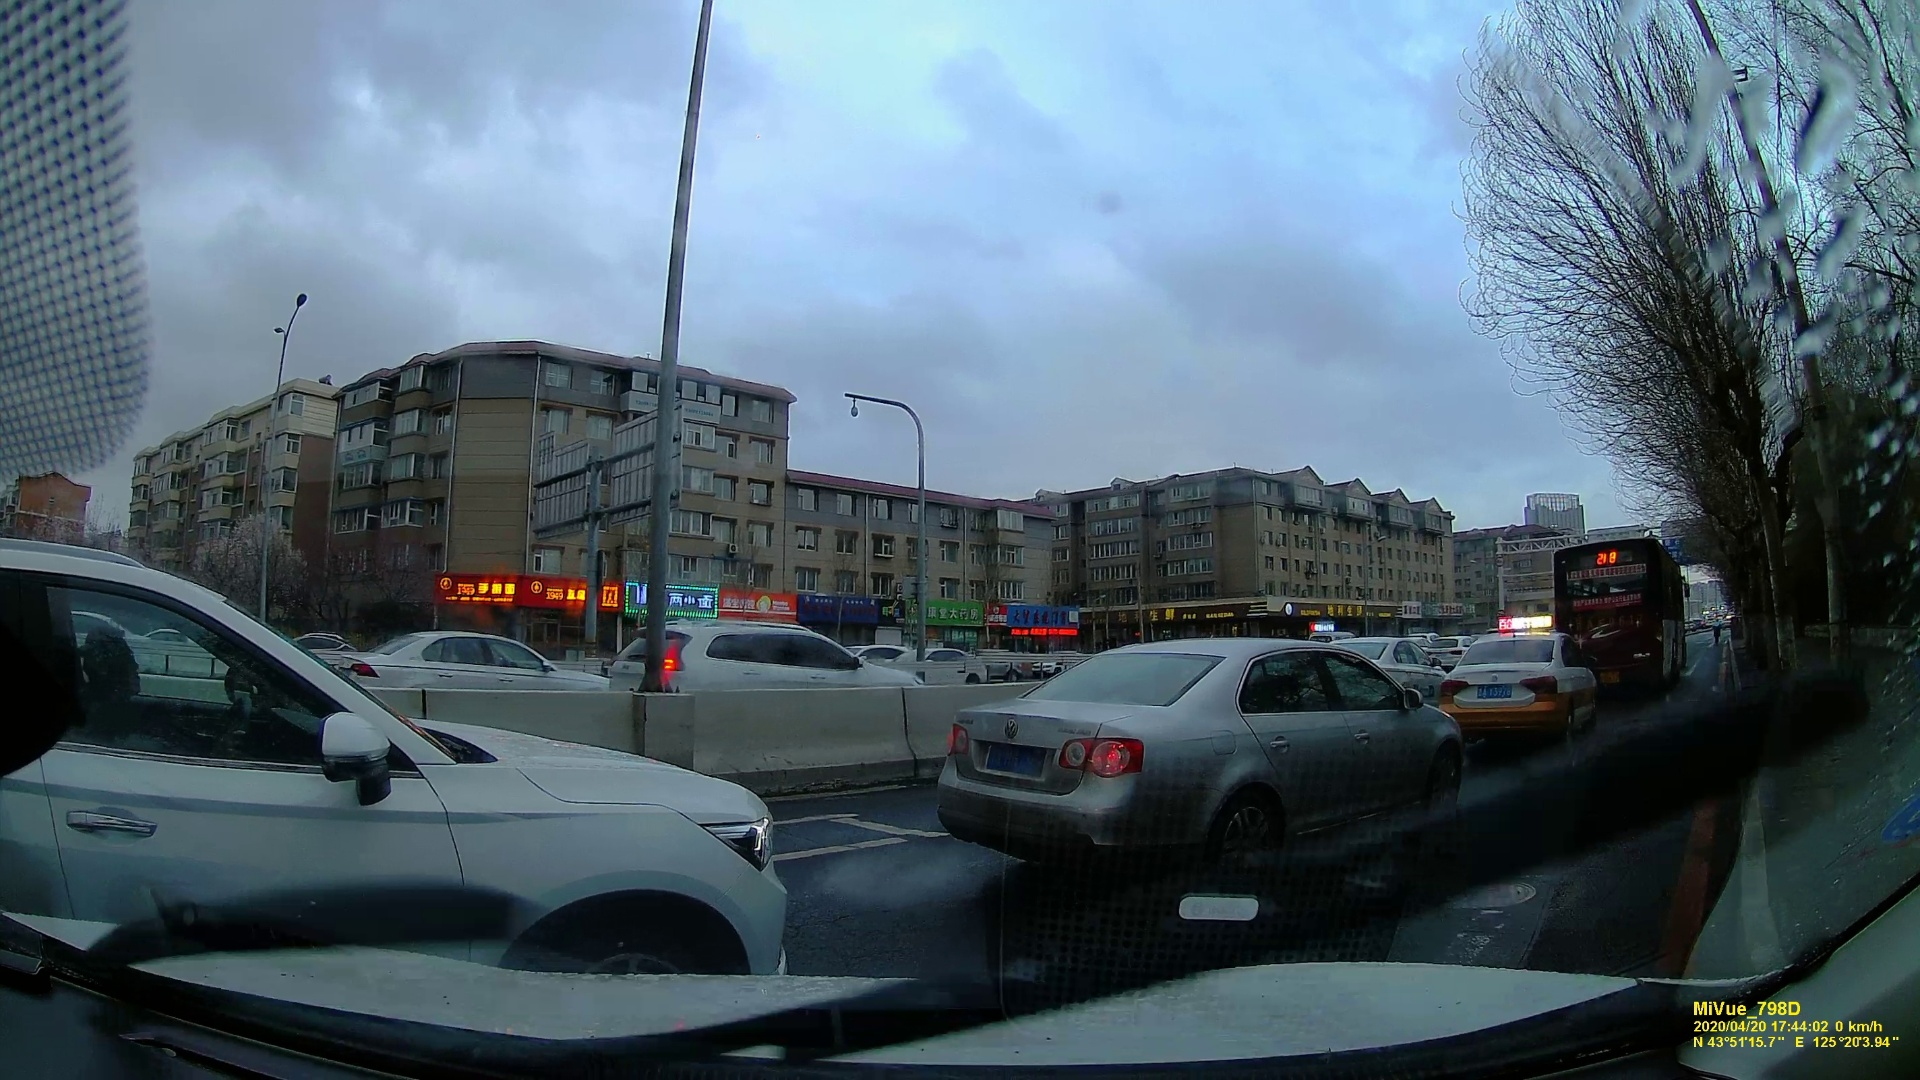bus: (1550, 542, 1673, 692)
person: (1709, 618, 1724, 644)
vehicle: (38, 558, 791, 995), (949, 638, 1456, 868), (609, 620, 912, 695), (1446, 631, 1592, 748), (357, 629, 588, 691), (1331, 635, 1446, 696)
